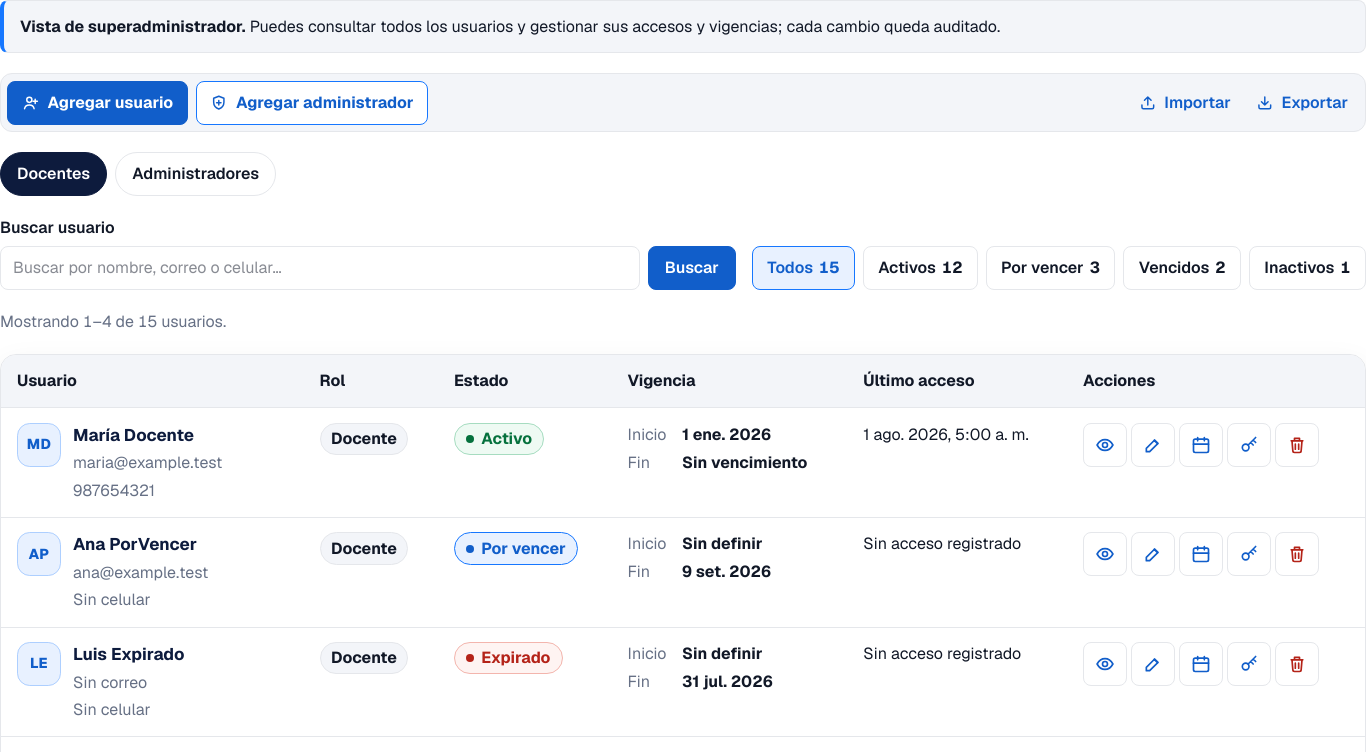
Test: UsersManager › prefills the access window as the calendar day seen in Lima
Click the button named "Extender vigencia" in the row of "MD" at (1201, 445), box 1179,423 -> 1223,467
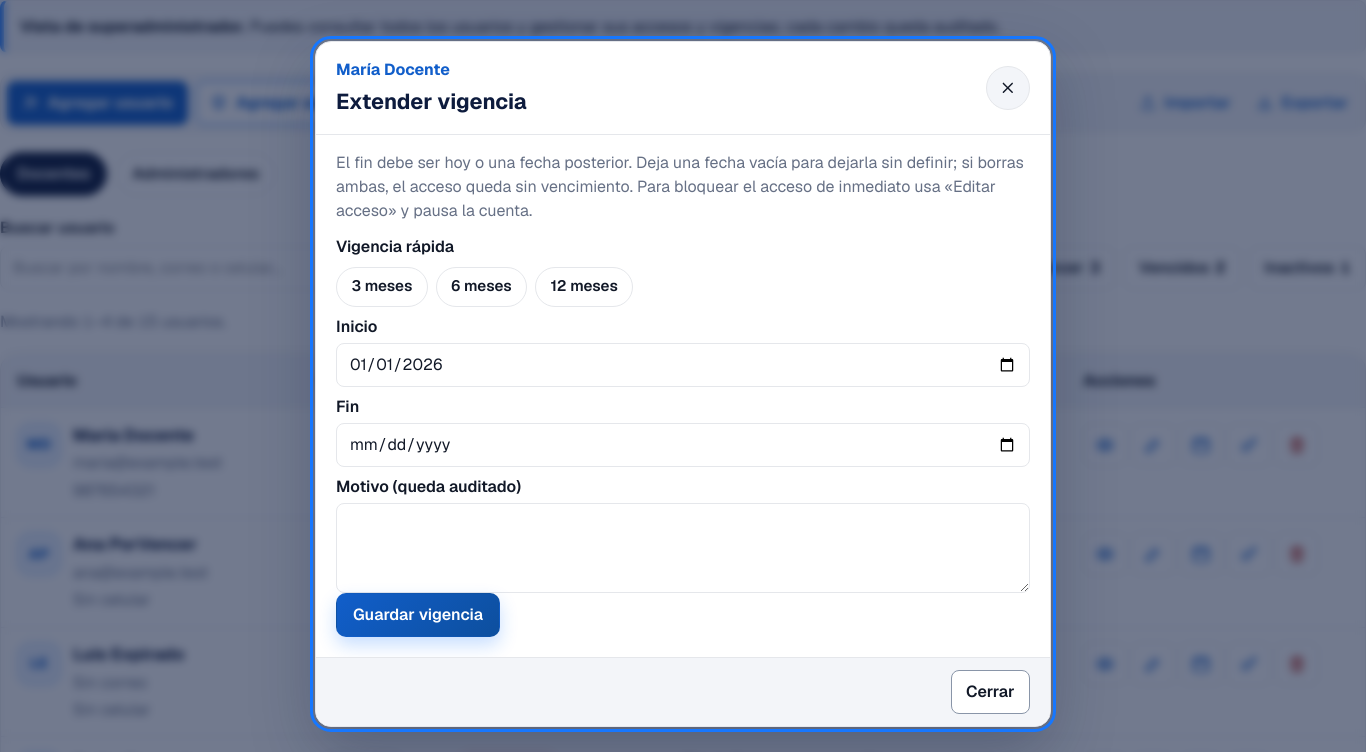
expect the date field labelled "Inicio" holds "2026-01-01": met, box 336,343 -> 1030,387
expect the date field labelled "Fin" is empty: met, box 336,423 -> 1030,467
Press Escape in the dialog "Extender vigencia", box 315,41 -> 1051,727
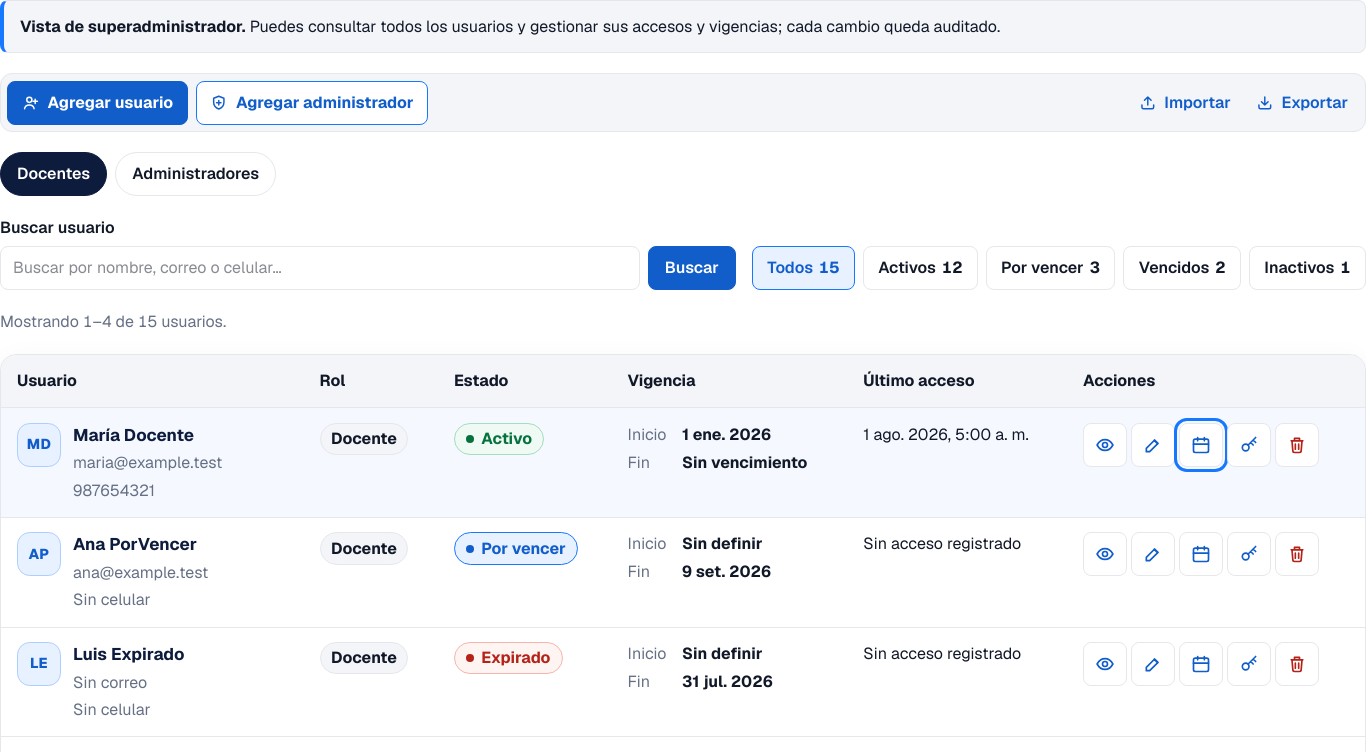
Click the button named "Extender vigencia" in the row of "AP" at (1201, 554), box 1179,532 -> 1223,576
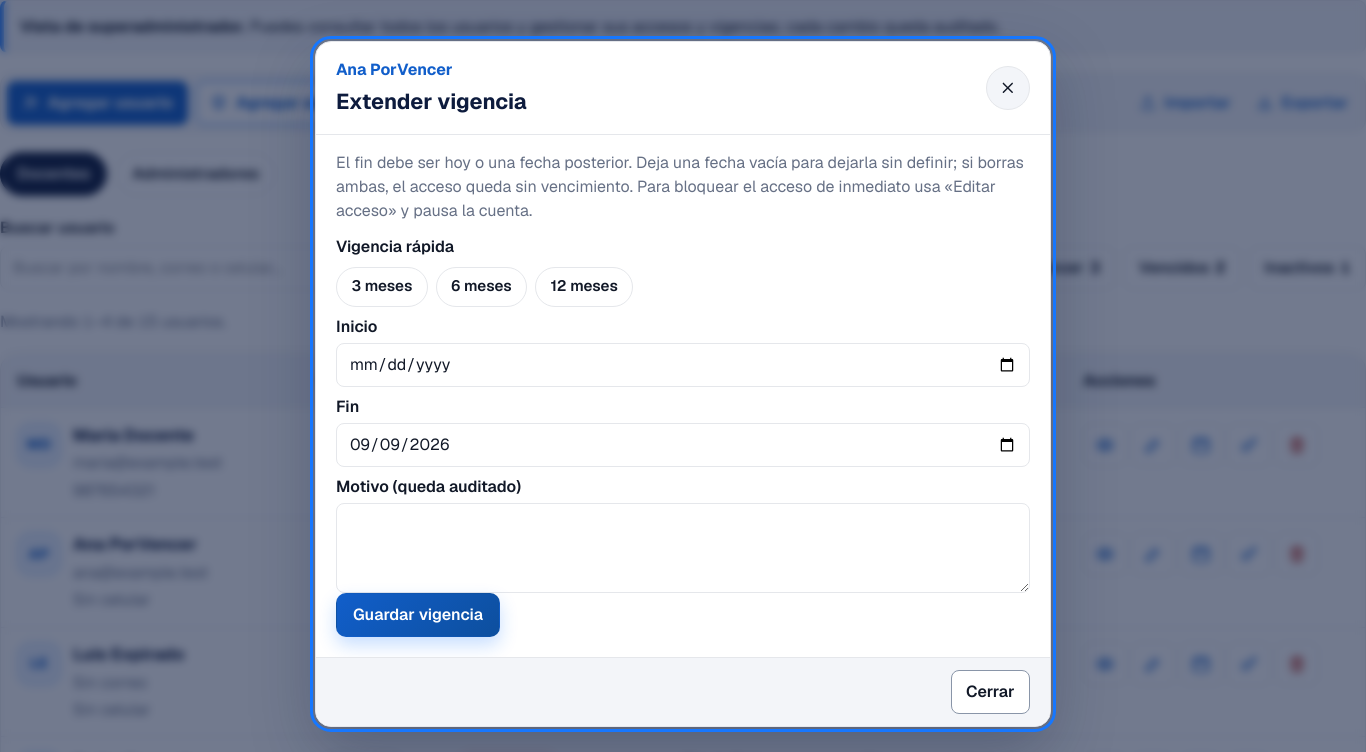
expect the date field labelled "Fin" holds "2026-09-09": met, box 336,423 -> 1030,467
